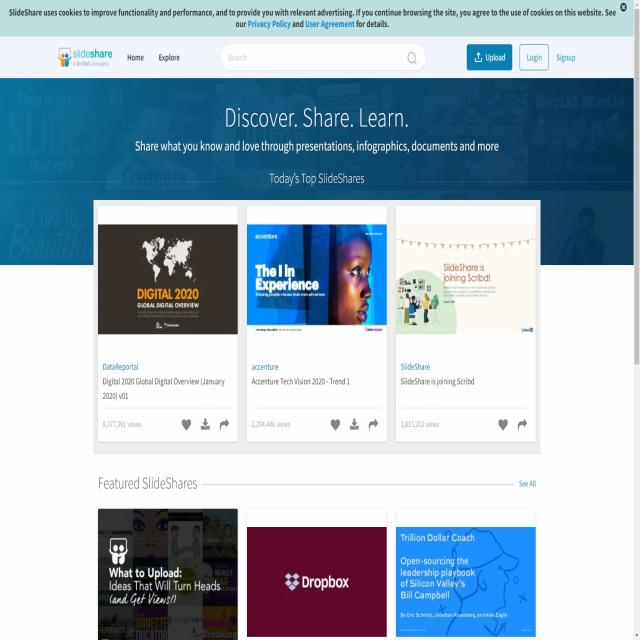menu-bar: (462, 41, 580, 73), (124, 40, 188, 76)
search: (218, 41, 428, 74)
